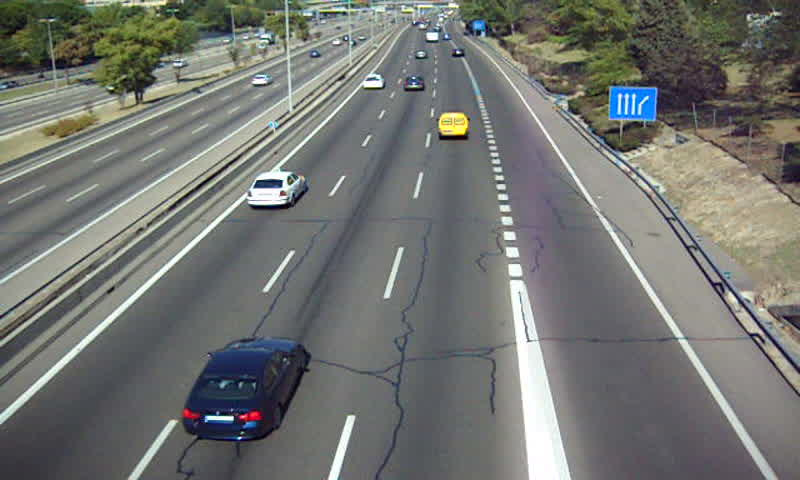car: (182, 338, 307, 440), (246, 171, 306, 207), (360, 73, 384, 92), (403, 76, 425, 93)
van: (438, 113, 470, 140)
